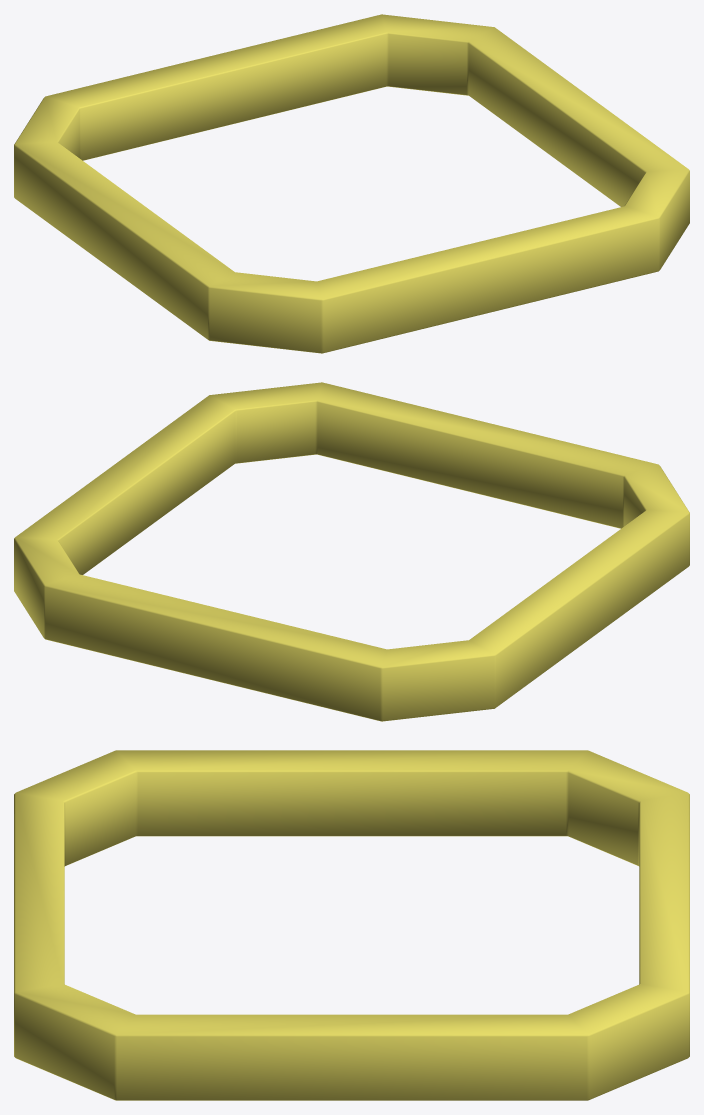
Rendered from [poo]_St4_Ring_Test.fbx.
The picture shows the model from 3 angles, top to bottom: view 1: azimuth 30°, elevation 25°; view 2: azimuth 150°, elevation 25°; view 3: azimuth 270°, elevation 25°; orthographic projection. The views are drawn at different scales.
Parts seen in each view (by area): view 1: STAGE4_Ring; view 2: STAGE4_Ring; view 3: STAGE4_Ring.
Boxes of the visible parts, left/top/right/bottom form: STAGE4_Ring: left=14, top=14, right=689, bottom=353; STAGE4_Ring: left=14, top=382, right=689, bottom=721; STAGE4_Ring: left=14, top=750, right=689, bottom=1100.
Bounding box in the file's own units: 400 × 43.23 × 400.
